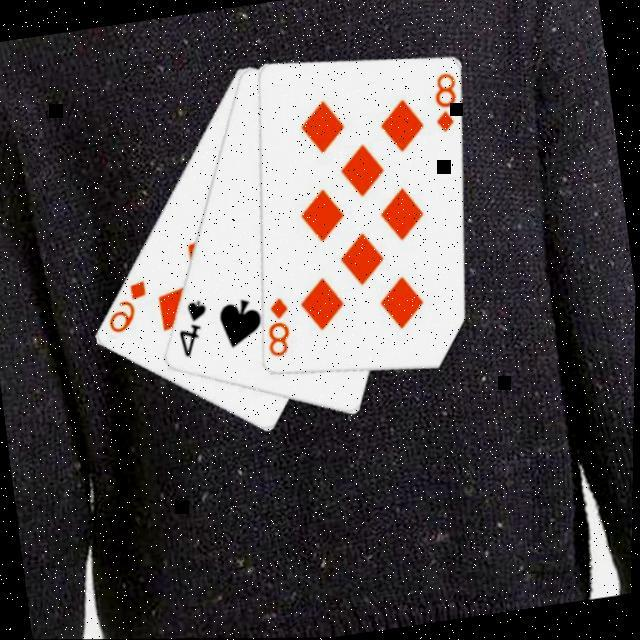4S: (173, 296, 218, 362)
8D: (262, 294, 300, 361), (428, 69, 466, 136)
9D: (101, 276, 158, 336)
